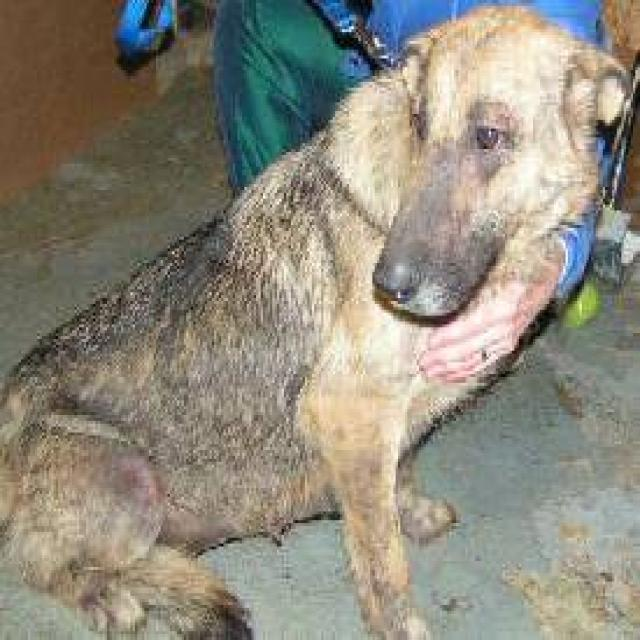dog: (0, 3, 631, 637)
